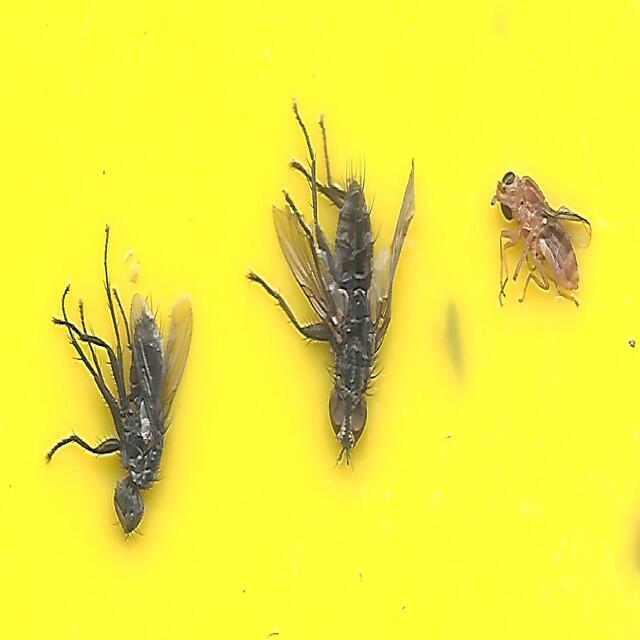Brachycera: (245, 101, 414, 469), (48, 224, 192, 539), (487, 170, 592, 311)
